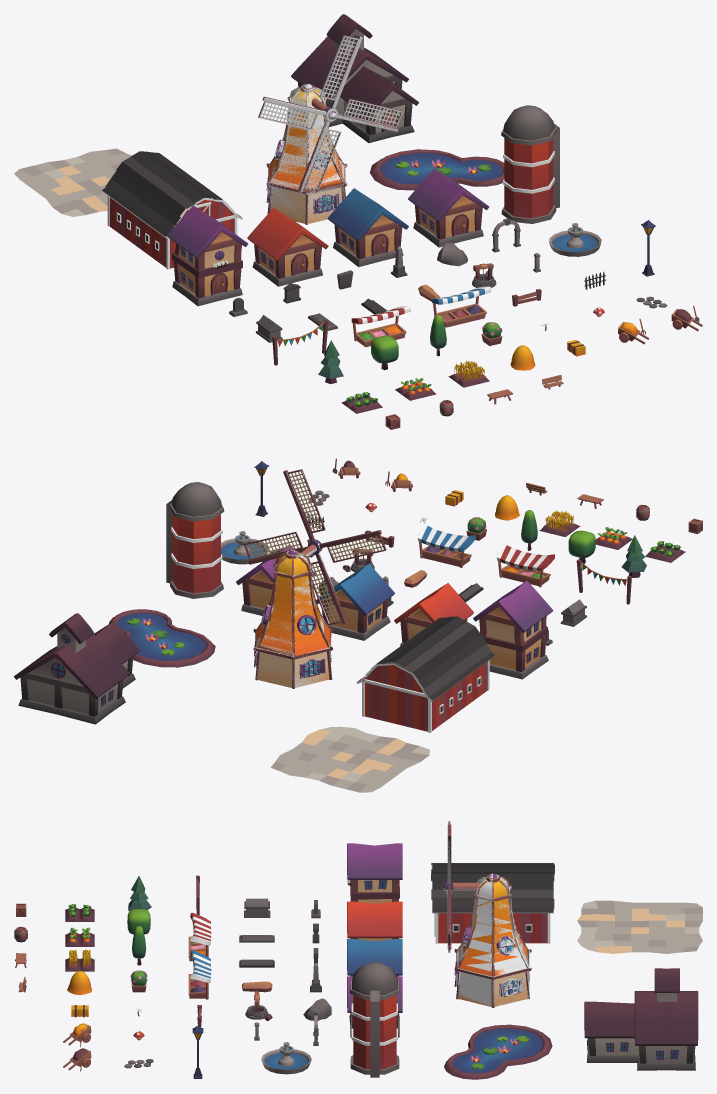
File: Village Assets.fbx
3 renders of one model, top to bottom at view 1: azimuth 30°, elevation 25°; view 2: azimuth 150°, elevation 25°; view 3: azimuth 270°, elevation 25°, orthographic. The views are drawn at different scales.
Visible parts, largest first — view 1: Windmill.004, Chapel, Windmill, Barn.002, Sphere.003, Barn, Sphere.001, Plane.002, House_2Story_Purple, House_2Story_Purple.010, Chapel.001, Pond (+13 smaller); view 2: Windmill, Barn, Chapel, Plane.002, Sphere.001, House_2Story_Purple, Barn.002, Chapel.001, Pond.002, House_Blue, Windmill.004, House_Red (+15 smaller); view 3: Chapel, Barn, Plane.002, Windmill.004, Windmill, Sphere.001, House_2Story_Purple, Pond.002, Chapel.001, Barn.002, Pond, Plane.004 (+17 smaller).
Part boxes in pixels (x1,y1,x2,y2): Windmill.004: (259, 35, 402, 224); Chapel: (291, 14, 418, 142); Windmill: (258, 35, 402, 224); Barn.002: (102, 151, 242, 265); Sphere.003: (501, 106, 559, 223); Barn: (103, 152, 240, 269); Sphere.001: (501, 105, 559, 223); Plane.002: (14, 148, 131, 215); House_2Story_Purple: (167, 205, 246, 306); House_2Story_Purple.010: (167, 207, 247, 299); Chapel.001: (291, 14, 418, 142); Pond: (371, 150, 504, 190); Windmill: (243, 469, 386, 688); Barn: (356, 616, 494, 732); Chapel: (14, 613, 139, 724); Plane.002: (270, 727, 429, 792); Sphere.001: (166, 482, 224, 598); House_2Story_Purple: (473, 580, 553, 678); Barn.002: (357, 616, 494, 731); Chapel.001: (15, 614, 139, 723); Pond.002: (110, 610, 215, 667); House_Blue: (316, 565, 394, 639); Windmill.004: (246, 470, 382, 687); House_Red: (394, 583, 473, 645); Chapel: (584, 968, 698, 1070); Barn: (431, 863, 554, 943); Plane.002: (577, 900, 702, 953); Windmill.004: (442, 822, 531, 1007); Windmill: (442, 821, 531, 1007); Sphere.001: (350, 962, 399, 1077); House_2Story_Purple: (346, 843, 402, 903); Pond.002: (454, 1024, 552, 1078); Chapel.001: (584, 968, 698, 1061); Barn.002: (431, 863, 554, 943); Pond: (444, 1025, 551, 1079); Plane.004: (577, 900, 696, 951).
Size of the model in its own units: 1437 by 663 by 2337.
